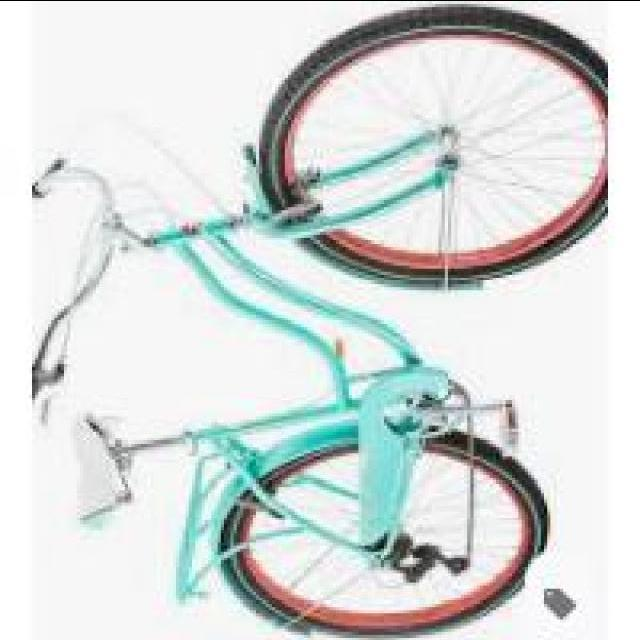bicycle: (33, 17, 606, 629)
